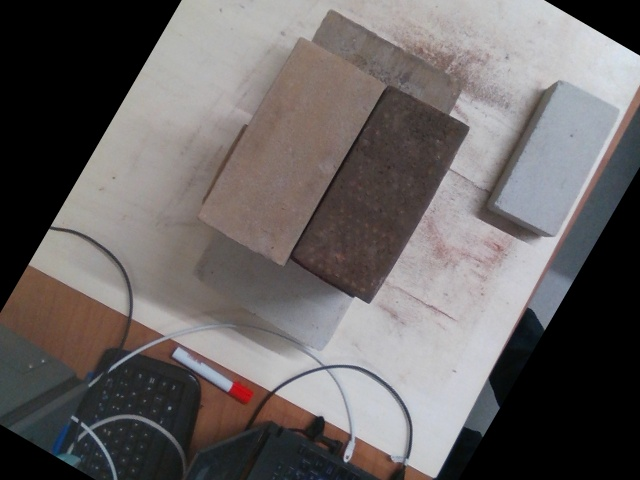brick: (196, 33, 385, 263), (289, 81, 469, 301), (496, 79, 620, 236)
